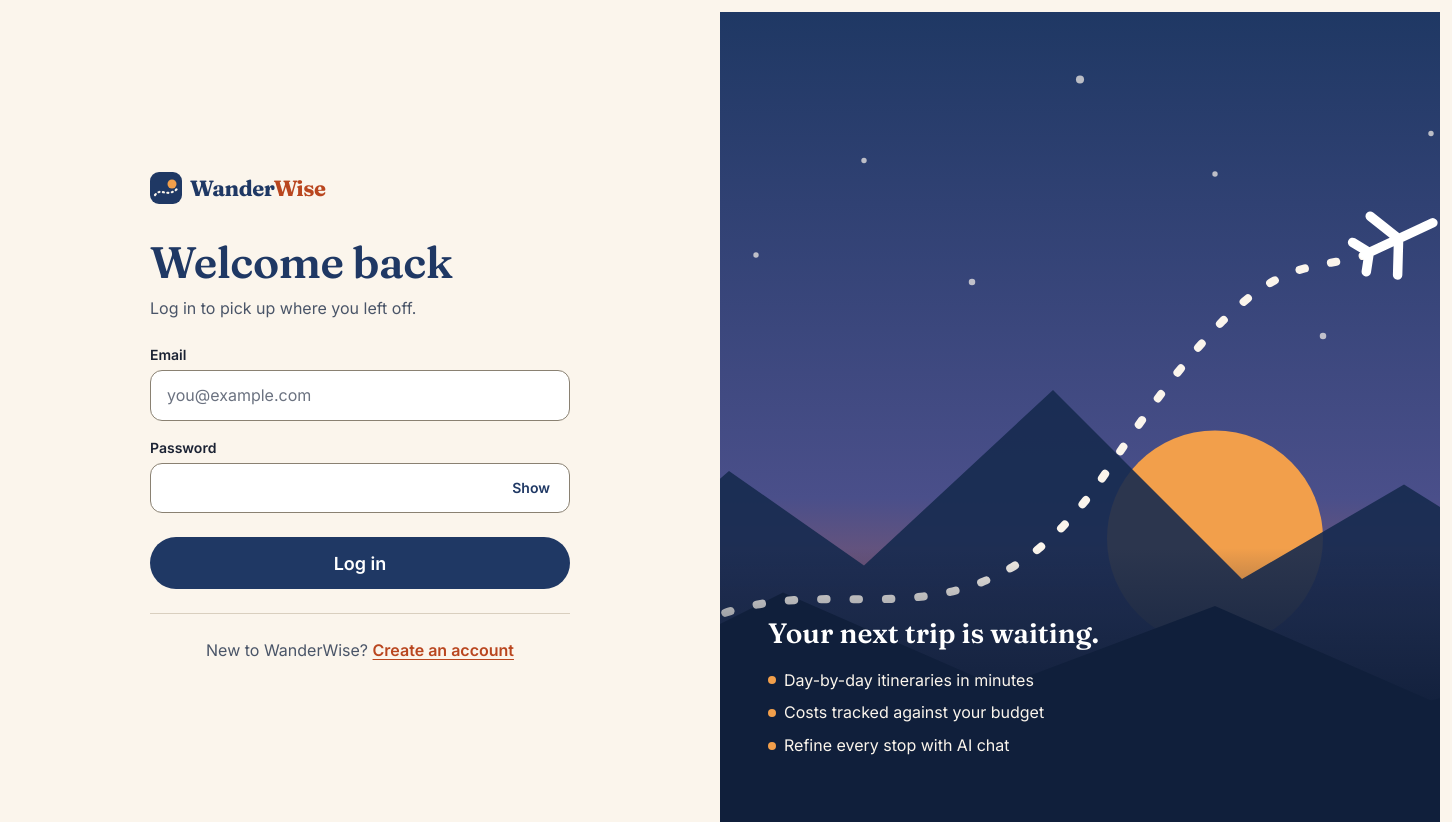
Login page › shows the server message when there are too many login attempts
Type "ada@example.com" into the field labelled "Email" at coordinates (360, 395), box [150,370,570,421]
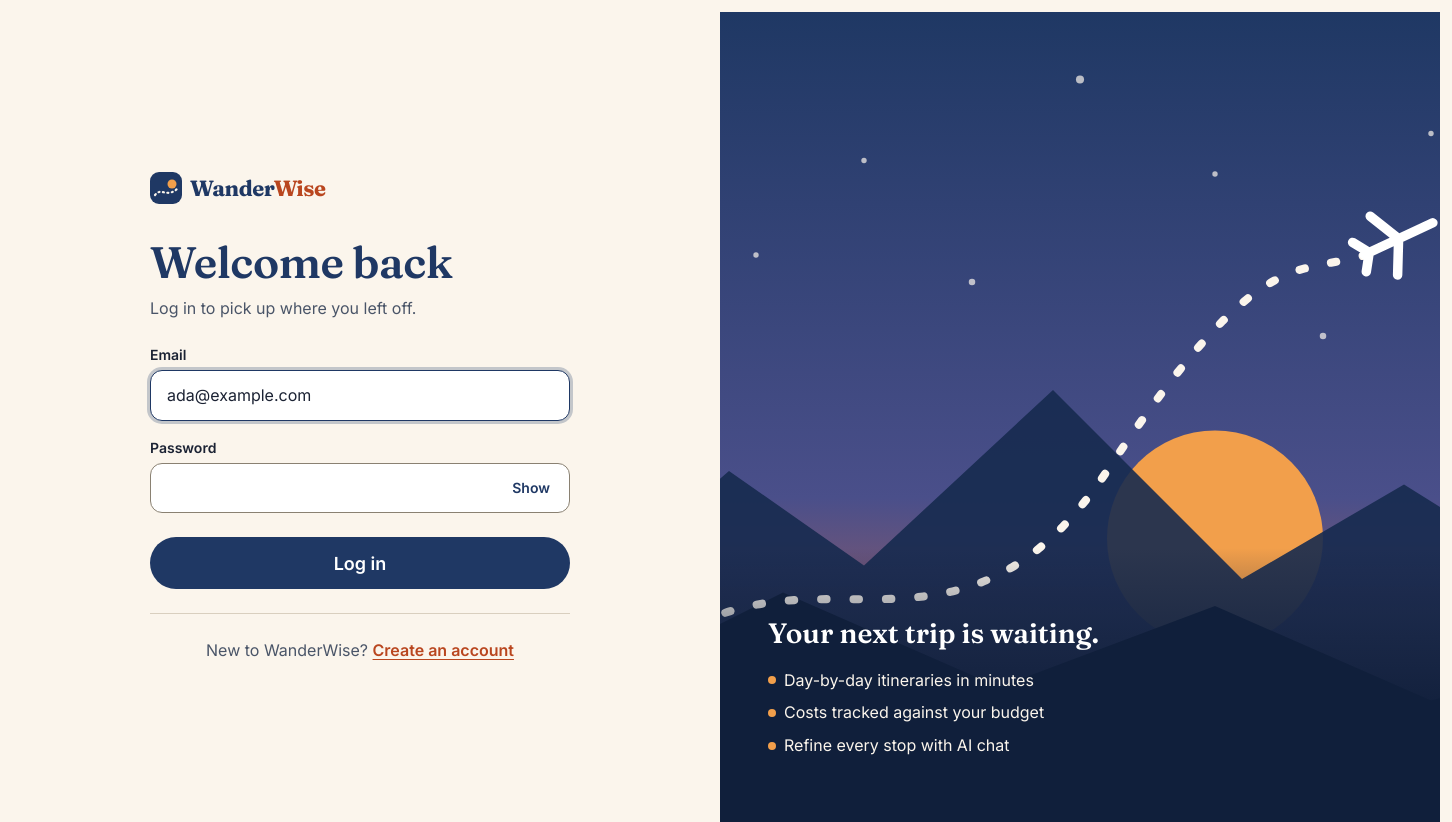
Type "wrong-password" into the password field labelled "Password" at coordinates (360, 488), box [150,462,570,513]
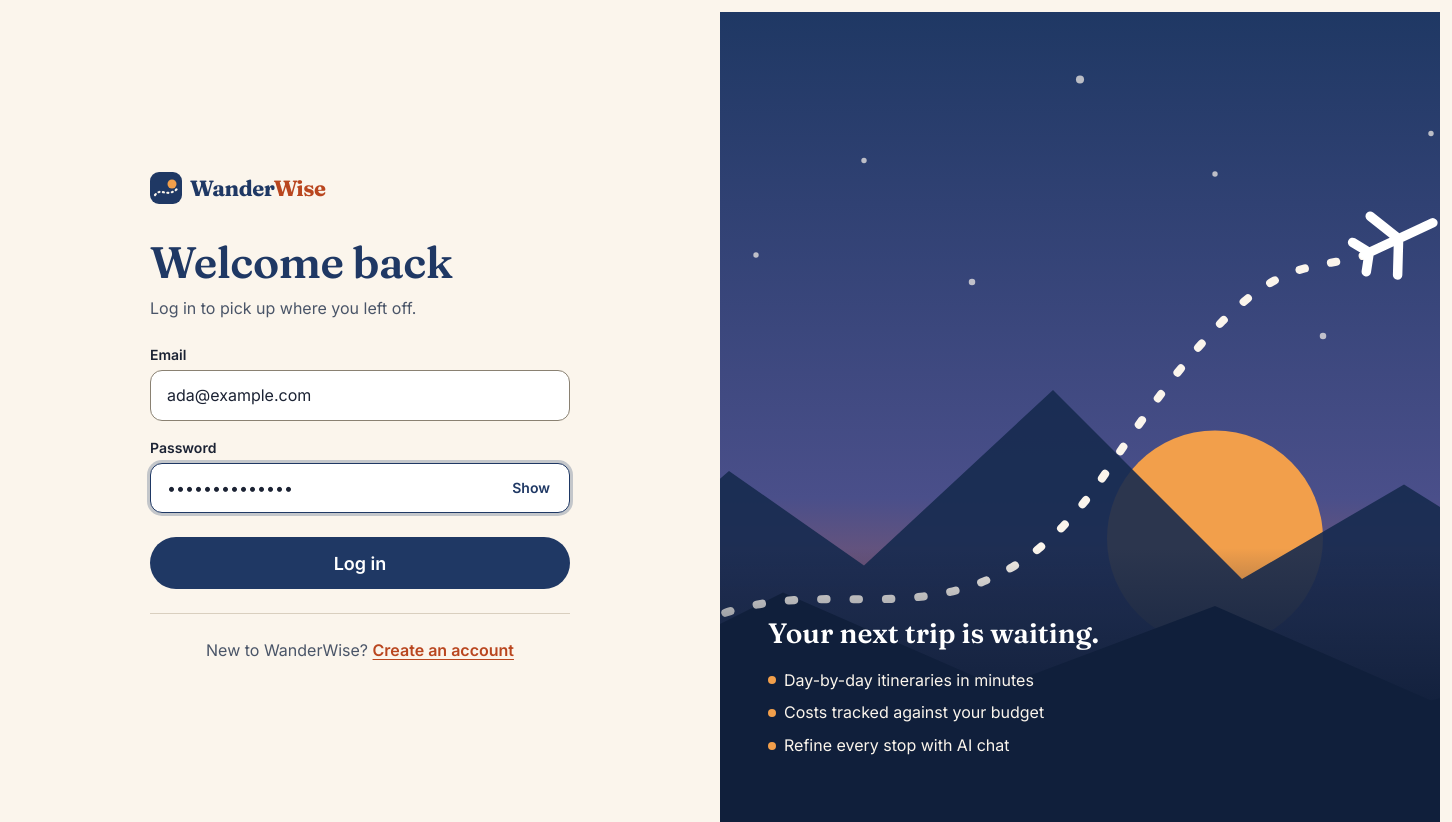
Click the button "Log in" at coordinates (360, 563), box [150,537,570,589]
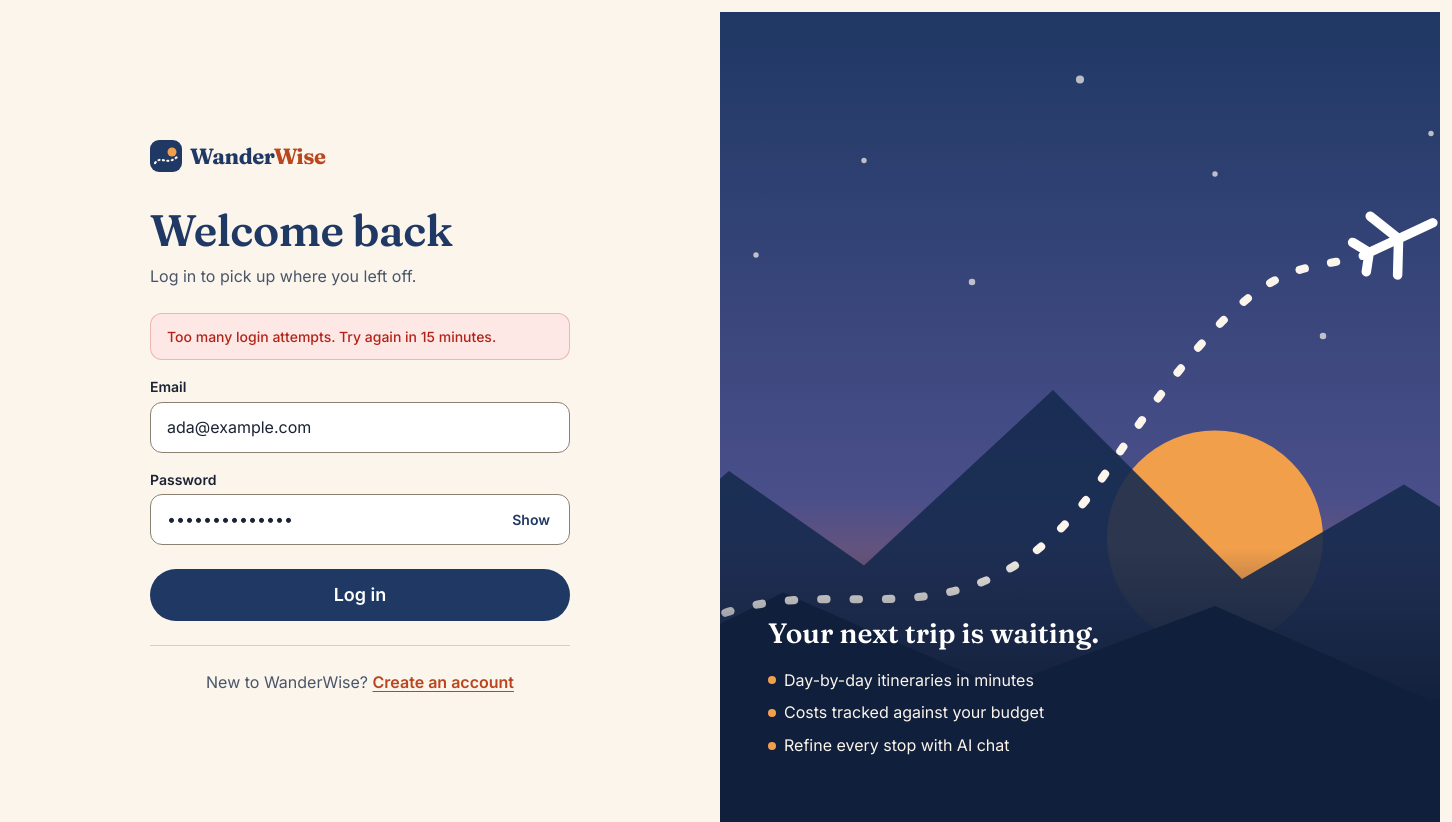
Expected: the message reads "Too many login attempts. Try again in 15 minutes.", [167,328,496,344]
